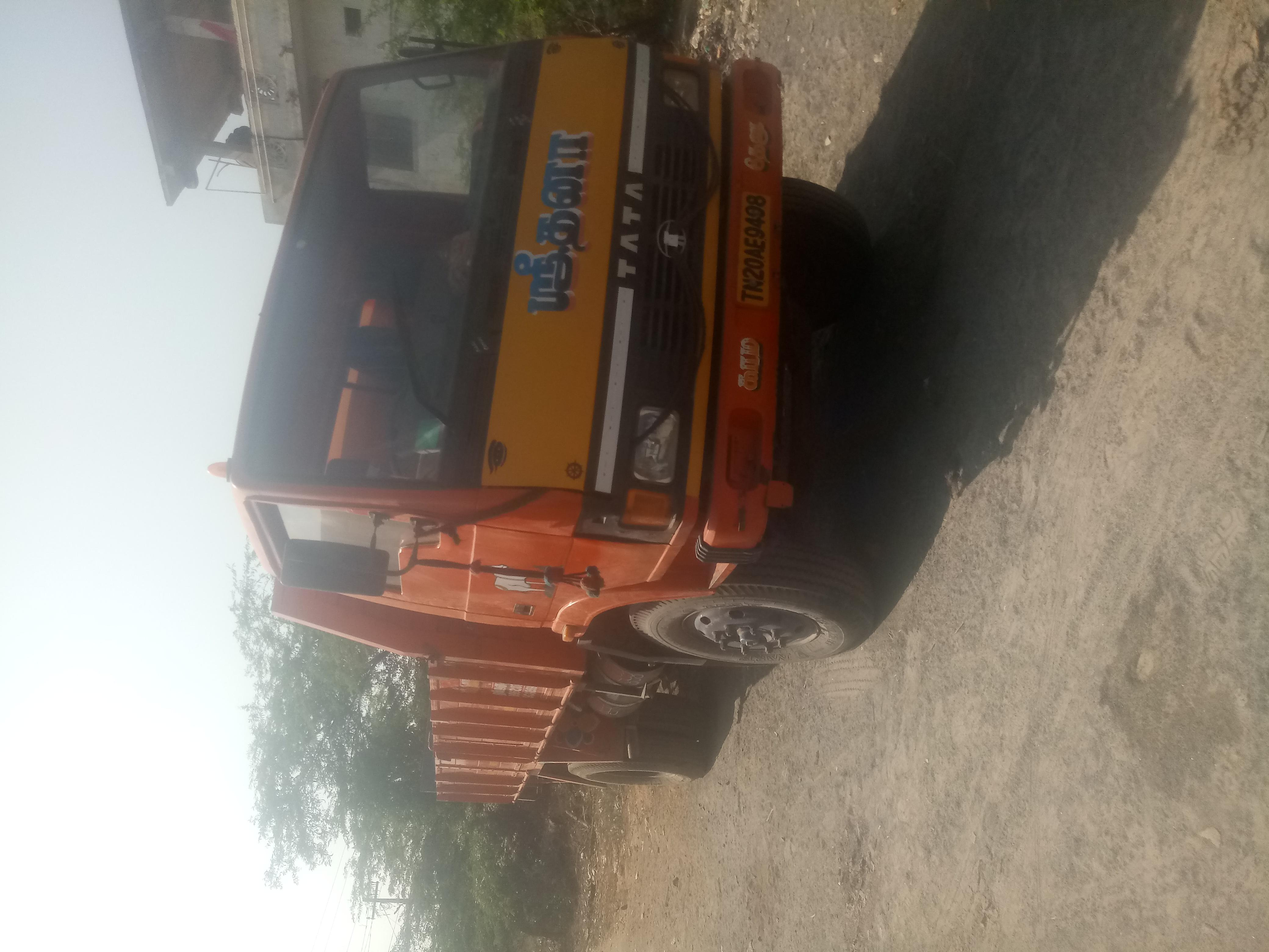License-Plate: (861, 551, 1014, 579)
